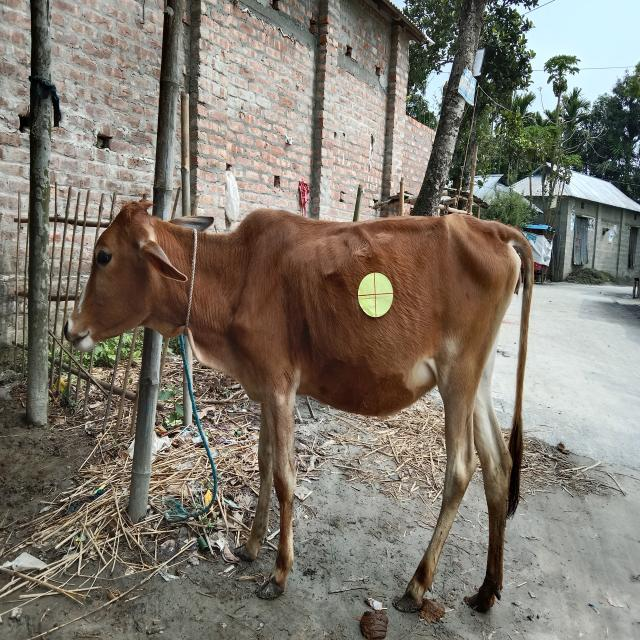badan_sapi: (242, 220, 502, 408)
sapi: (57, 190, 538, 625)
